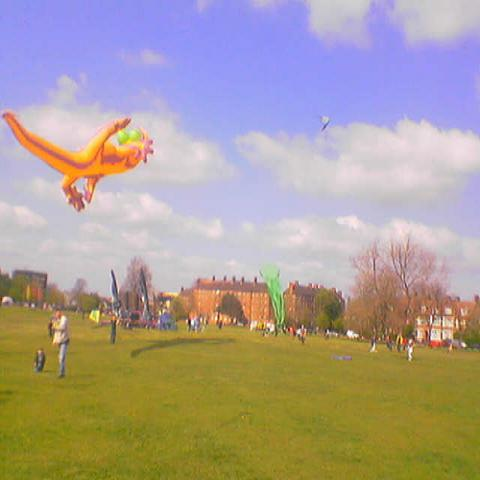car: (330, 331, 338, 336)
